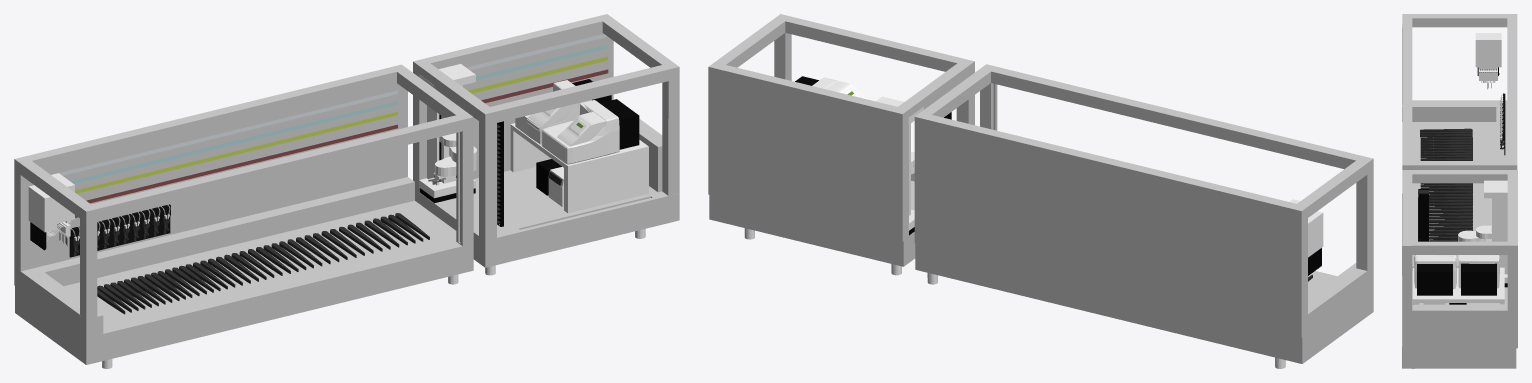
The model's file is workstation-elisa.glb.
3 renders of one model, left to right at view 1: azimuth 30°, elevation 25°; view 2: azimuth 150°, elevation 25°; view 3: azimuth 270°, elevation 25°, orthographic. The views are drawn at different scales.
Parts seen in each view (by area): view 1: pasted__pCube688, rediseño:pCube1.018, polySurface228, polySurface338.001, pasted__polySurface142, polySurface258, agujas:sweep3, pCube1181, pCube1182, pCube1183, pCube1184, polySurface238 (+7 smaller); view 2: pasted__pCube688, agujas:sweep3, polySurface338.001; view 3: pasted__pCube688, rediseño:pCube1.018, polySurface338.001, agujas:sweep3, polySurface361, polySurface228, polySurface238, placas_rediseño:pCube111, polySurface258, polySurface261, pasted__polySurface142.
Part boxes in pixels (x1,y1,x2,y2): pasted__pCube688: (14,14,679,364); rediseño:pCube1.018: (97,213,429,314); polySurface228: (510,123,648,213); polySurface338.001: (419,64,477,198); pasted__polySurface142: (69,204,170,257); polySurface258: (541,100,619,164); agujas:sweep3: (28,173,74,250); pCube1181: (59,90,397,175); pCube1182: (70,101,397,183); pCube1183: (75,111,397,193); pCube1184: (86,124,397,203); polySurface238: (600,99,639,149); pasted__pCube688: (708,14,1373,363); agujas:sweep3: (1289,199,1323,275); polySurface338.001: (875,96,923,230); pasted__pCube688: (1402,14,1517,368); rediseño:pCube1.018: (1420,128,1472,241); polySurface338.001: (1458,180,1507,283); agujas:sweep3: (1475,33,1501,82); polySurface361: (1461,263,1496,295); polySurface228: (1412,267,1504,304); polySurface238: (1417,264,1452,295); placas_rediseño:pCube111: (1418,189,1428,241); polySurface258: (1414,255,1456,288); polySurface261: (1458,255,1499,288); pasted__polySurface142: (1500,93,1505,155).
Bounding box in the file's own units: 12.06 × 3.25 × 2.54.
